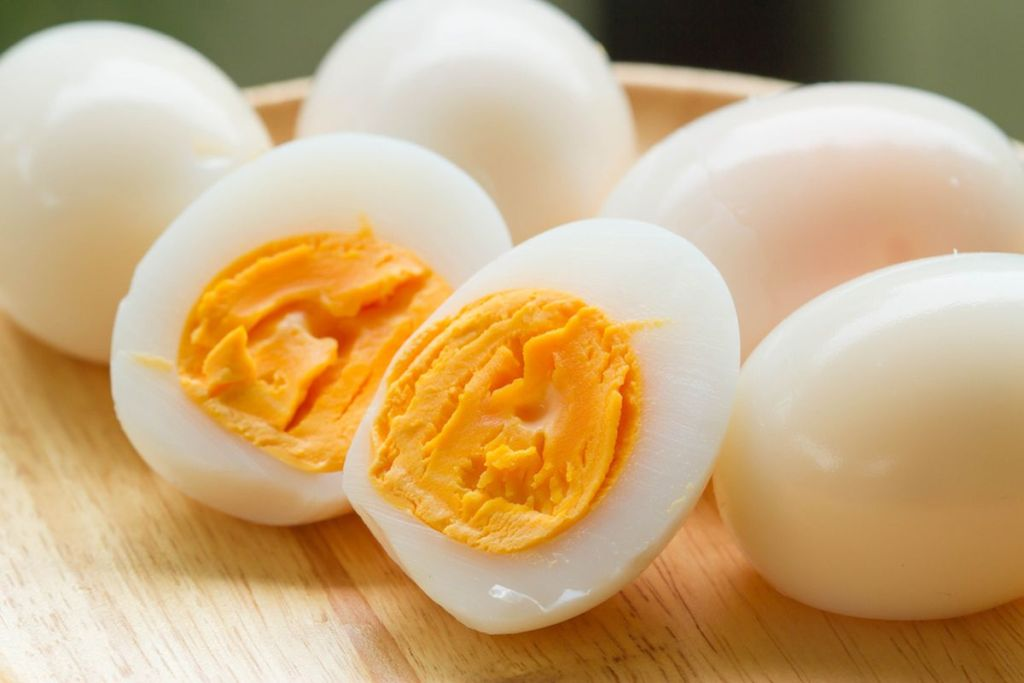Telur: (317, 212, 763, 648), (155, 115, 480, 521), (699, 260, 1024, 637), (18, 12, 260, 351), (638, 70, 991, 289), (376, 18, 668, 196)
